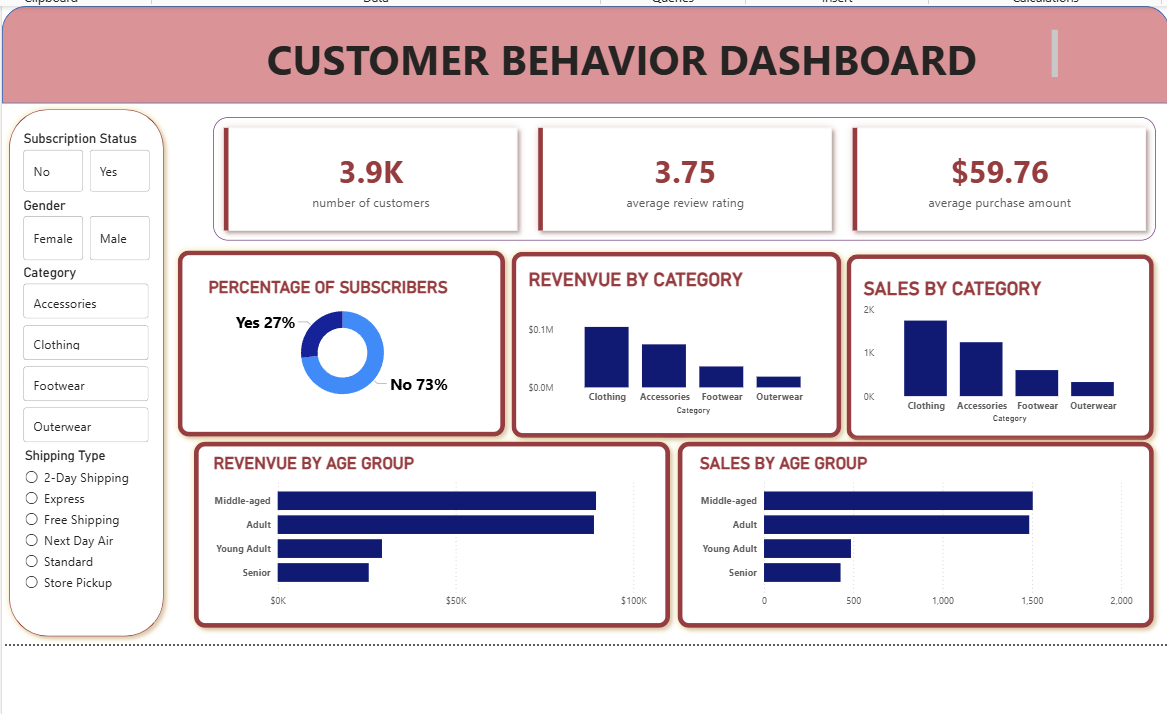

What the dashboard file says about the page in this screenshot:
{"tool":"powerbi","page":{"name":"Page 1","canvas":[1500,820],"ordinal":0},"visuals":[{"type":"cardVisual","fields":{"Data":["customer_shopping_behavior.number of customers","customer_shopping_behavior.average review rating","customer_shopping_behavior.average purchase amount"]},"box":[266.7,138.1,1222.4,168.7],"z":0},{"type":"shape","box":[0,0,1500.3,125.4],"z":1000},{"type":"textbox","box":[239.6,25.7,1122.4,75.6],"z":2000},{"type":"shape","box":[216.9,305.2,438.5,257],"z":3000},{"type":"donutChart","title":"PERCENTAGE OF SUBSCRIBERS","fields":{"Category":["customer_shopping_behavior.Subscription Status"],"Y":["CountNonNull(customer_shopping_behavior.Customer ID)"]},"box":[260.2,348.6,355,170.3],"z":4000},{"type":"shape","box":[645.8,306.8,441.7,257],"z":5000},{"type":"shape","box":[1076.3,310,412.8,257],"z":6000},{"type":"clusteredColumnChart","title":"REVENVUE BY CATEGORY","fields":{"Y":["Sum(customer_shopping_behavior.Purchase Amount (USD))"],"Category":["customer_shopping_behavior.Category"]},"box":[671.5,337.3,391.9,192.8],"z":7000},{"type":"clusteredColumnChart","title":"SALES BY CATEGORY","fields":{"Y":["CountNonNull(customer_shopping_behavior.Customer ID)"],"Category":["customer_shopping_behavior.Category"]},"box":[1102,348.6,363,192.8],"z":8000},{"type":"shape","box":[0,123.7,216.9,695.5],"z":9000},{"type":"advancedSlicerVisual","fields":{"Values":["customer_shopping_behavior.Subscription Status"]},"box":[22.5,160.6,173.5,83.5],"z":9001},{"type":"advancedSlicerVisual","fields":{"Values":["customer_shopping_behavior.Gender"]},"box":[22.5,245.8,173.5,86.7],"z":9002},{"type":"advancedSlicerVisual","fields":{"Values":["customer_shopping_behavior.Category"]},"box":[22.5,332.5,171.9,234.5],"z":9003},{"type":"listSlicer","fields":{"Values":["customer_shopping_behavior.Shipping Type"]},"box":[24.1,567,171.9,224.9],"z":9004},{"type":"shape","box":[237.7,551,629.7,257],"z":9006},{"type":"clusteredBarChart","title":"REVENVUE BY AGE GROUP","fields":{"Category":["customer_shopping_behavior.Age Group"],"Y":["Sum(customer_shopping_behavior.Purchase Amount (USD))"]},"box":[266.7,575.1,567,207.2],"z":9007},{"type":"shape","box":[859.4,551,629.7,257],"z":9008},{"type":"clusteredBarChart","title":"SALES BY AGE GROUP","fields":{"Category":["customer_shopping_behavior.Age Group"],"Y":["CountNonNull(customer_shopping_behavior.Customer ID)"]},"box":[891.5,575.1,567,207.2],"z":9009}]}

Visuals, with their boxes in screenshot pixels (x1, y1, x2, y2):
cardVisual - customer_shopping_behavior.number of customers x customer_shopping_behavior.average review rating: box(214, 124, 1152, 254)
shape: box(9, 18, 1160, 114)
textbox: box(193, 38, 1054, 96)
shape: box(176, 252, 512, 450)
"PERCENTAGE OF SUBSCRIBERS" donutChart: box(209, 286, 481, 416)
shape: box(505, 254, 843, 451)
shape: box(835, 256, 1152, 453)
"REVENVUE BY CATEGORY" clusteredColumnChart: box(524, 277, 825, 425)
"SALES BY CATEGORY" clusteredColumnChart: box(855, 286, 1133, 434)
shape: box(9, 113, 176, 647)
advancedSlicerVisual - customer_shopping_behavior.Subscription Status: box(26, 141, 159, 206)
advancedSlicerVisual - customer_shopping_behavior.Gender: box(26, 207, 159, 273)
advancedSlicerVisual - customer_shopping_behavior.Category: box(26, 273, 158, 453)
listSlicer - customer_shopping_behavior.Shipping Type: box(28, 453, 159, 626)
shape: box(191, 441, 675, 638)
"REVENVUE BY AGE GROUP" clusteredBarChart: box(214, 459, 649, 618)
shape: box(668, 441, 1152, 638)
"SALES BY AGE GROUP" clusteredBarChart: box(693, 459, 1128, 618)
